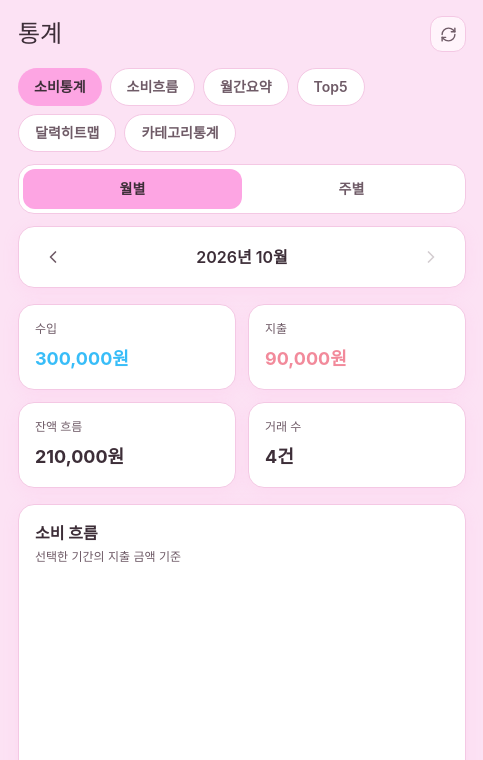
Scenario: StatisticsPage › 달력히트맵 일자 상세 목록에서 할부 2회차 이후는 제외한다
The image size is (483, 760).
Click the button "달력히트맵".
click(67, 133)  # box 18,114 -> 116,152
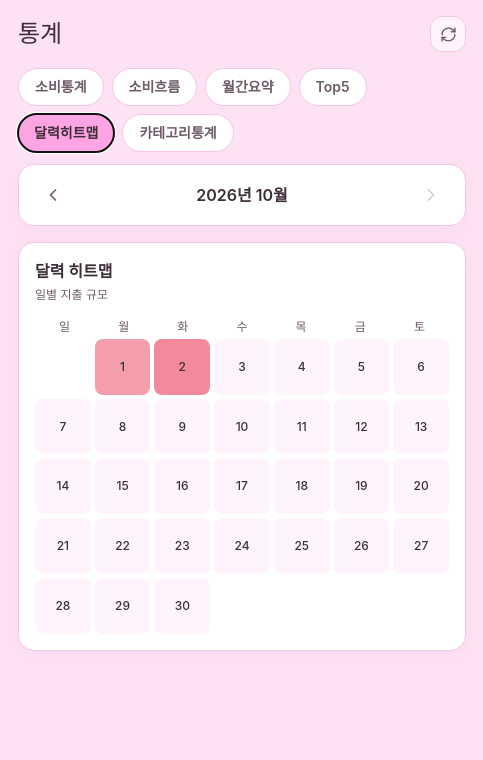
Expected: the element labelled "달력 히트맵" is shown, 18,242 -> 466,651
Click the button named "1일".
click(123, 367)  # box 95,339 -> 150,395
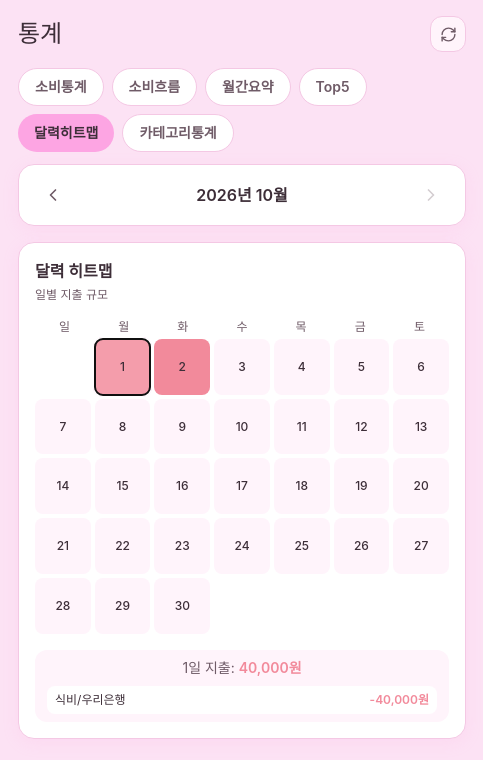
Expected: the text "식비/우리은행" is shown, 55,692 -> 126,708
